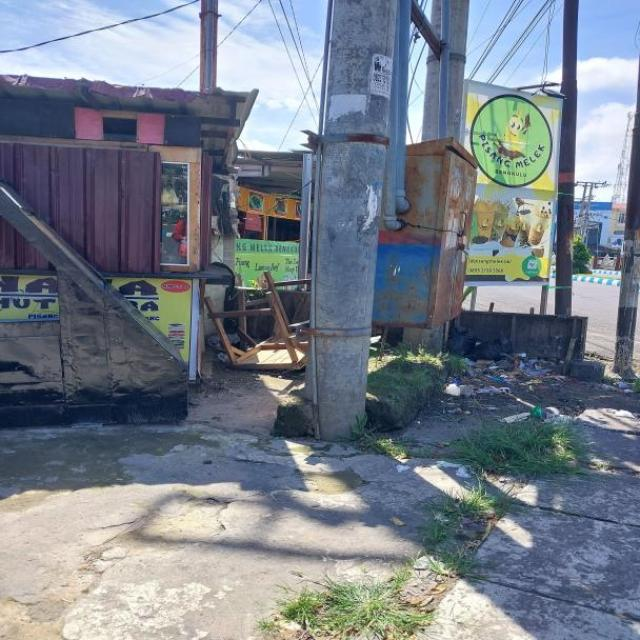electric pole ahead at: (298, 0, 399, 442)
